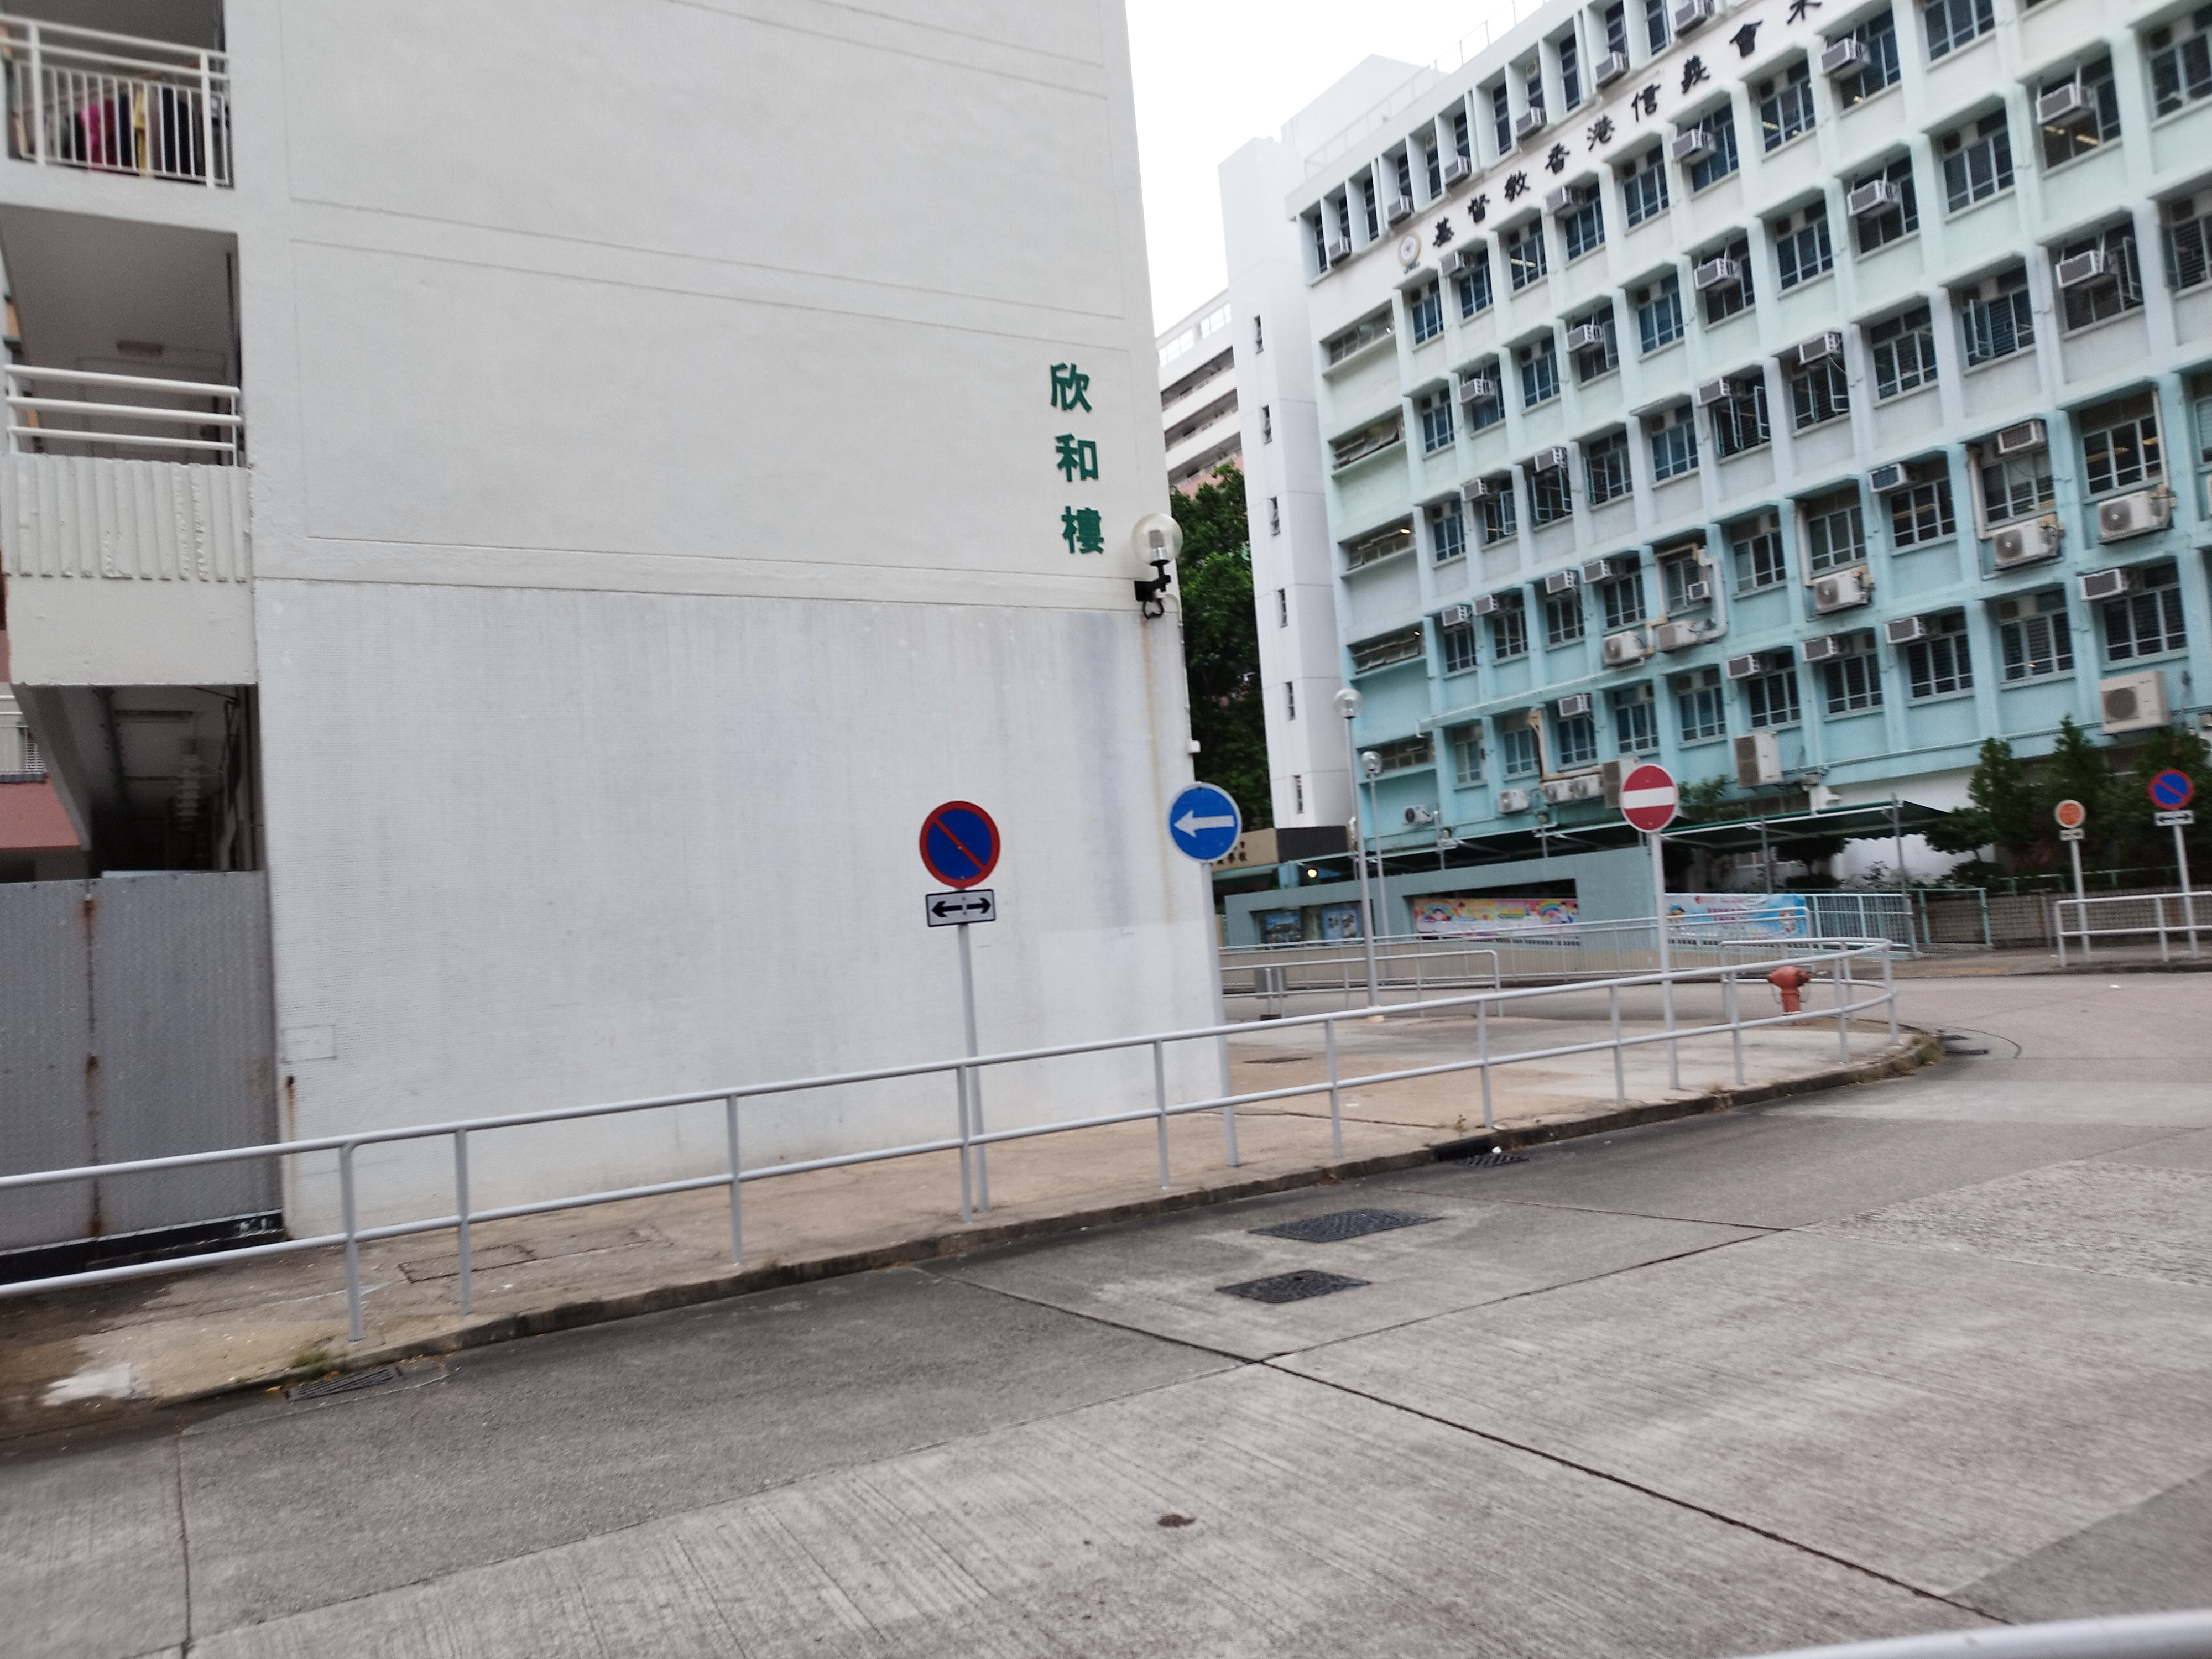No Enter: (1620, 769, 1677, 833)
No Parking: (907, 800, 1005, 885), (2148, 769, 2195, 812)
Turn Left: (1163, 786, 1242, 868)
